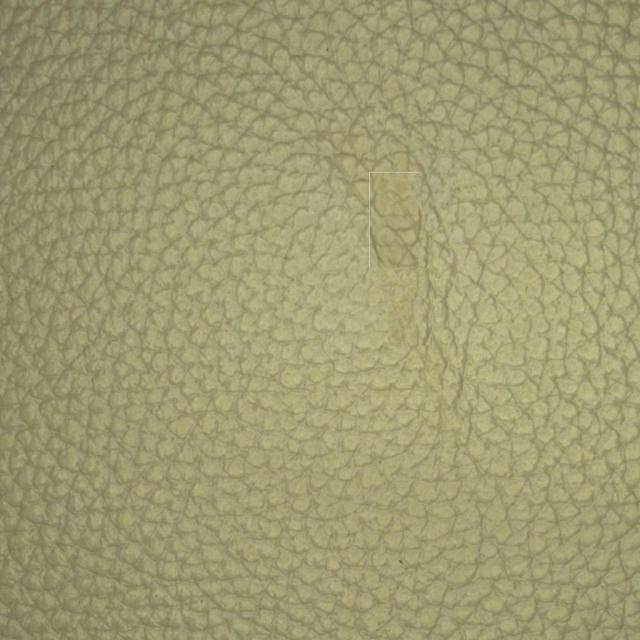Healed Injury: (329, 110, 492, 380)
